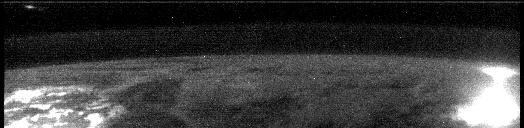positive: (478, 63, 516, 87)
